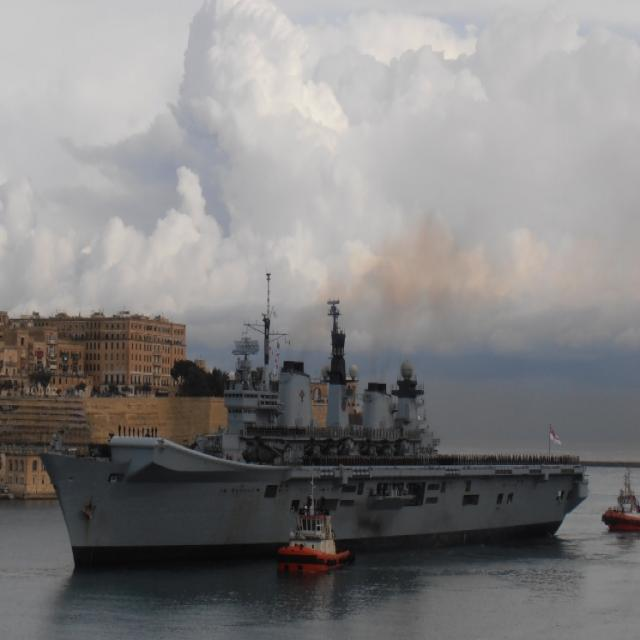Portanaves: (42, 270, 595, 580)
